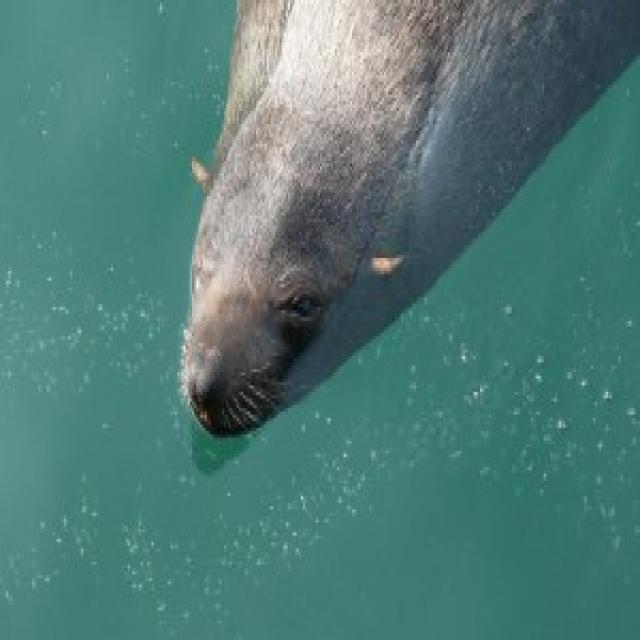Seal: (176, 0, 574, 447)
